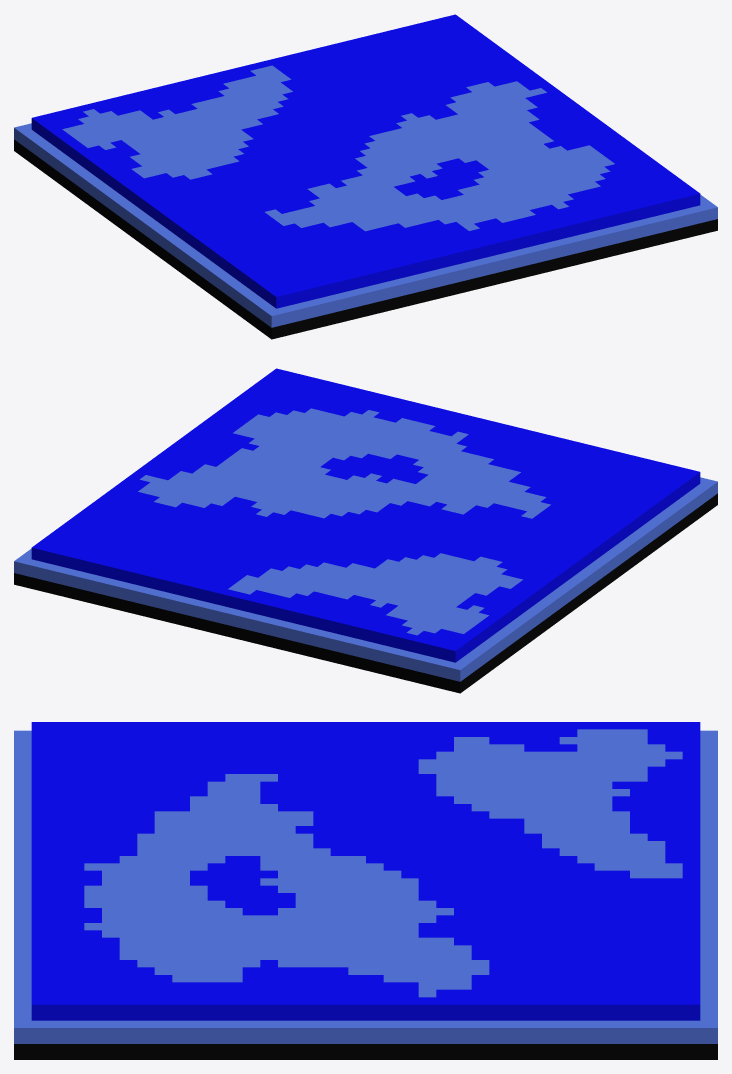
File: BoardPieceSix.fbx
3 renders of one model, top to bottom at view 1: azimuth 30°, elevation 25°; view 2: azimuth 150°, elevation 25°; view 3: azimuth 270°, elevation 25°, orthographic. The views are drawn at different scales.
Parts seen in each view (by area): view 1: boardGround6; view 2: boardGround6; view 3: boardGround6.
Part boxes in pixels (x1,y1,x2,y2): boardGround6: [14, 14, 717, 339]; boardGround6: [14, 368, 717, 693]; boardGround6: [14, 722, 717, 1059].
Size of the model in its own units: 400 by 30 by 400.
